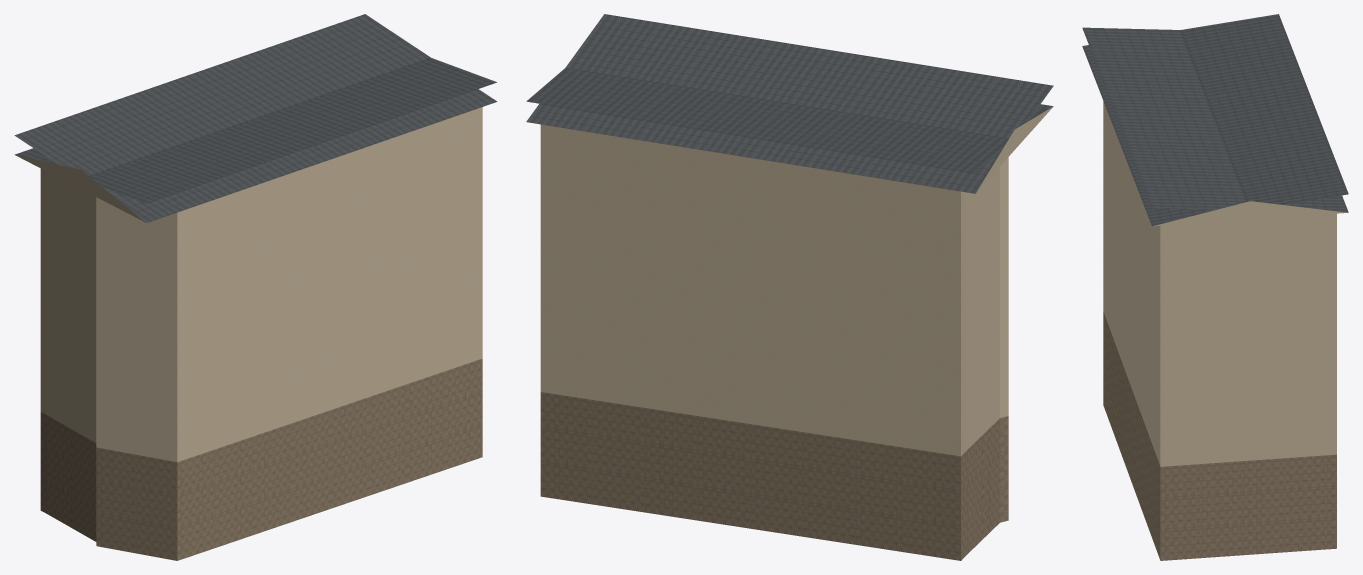
Rendered from bld_c8_41_509.gltf.
3 renders of one model, left to right at view 1: azimuth 30°, elevation 25°; view 2: azimuth 150°, elevation 25°; view 3: azimuth 270°, elevation 25°, orthographic. The views are drawn at different scales.
Visible parts, largest first — view 1: bld_c8_41_509; view 2: bld_c8_41_509; view 3: bld_c8_41_509.
Boxes of the visible parts, x1,y1,x2,y2 form: bld_c8_41_509: [14, 14, 497, 560]; bld_c8_41_509: [526, 14, 1053, 560]; bld_c8_41_509: [1082, 14, 1348, 560].
Size of the model in its own units: 22.55 by 19.4 by 13.1.
4 materials, 4 textured.
